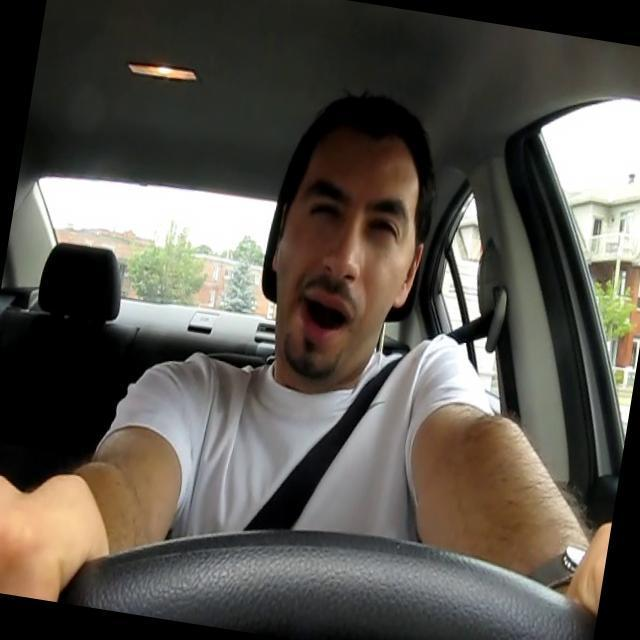open-mouth: (298, 290, 353, 346)
